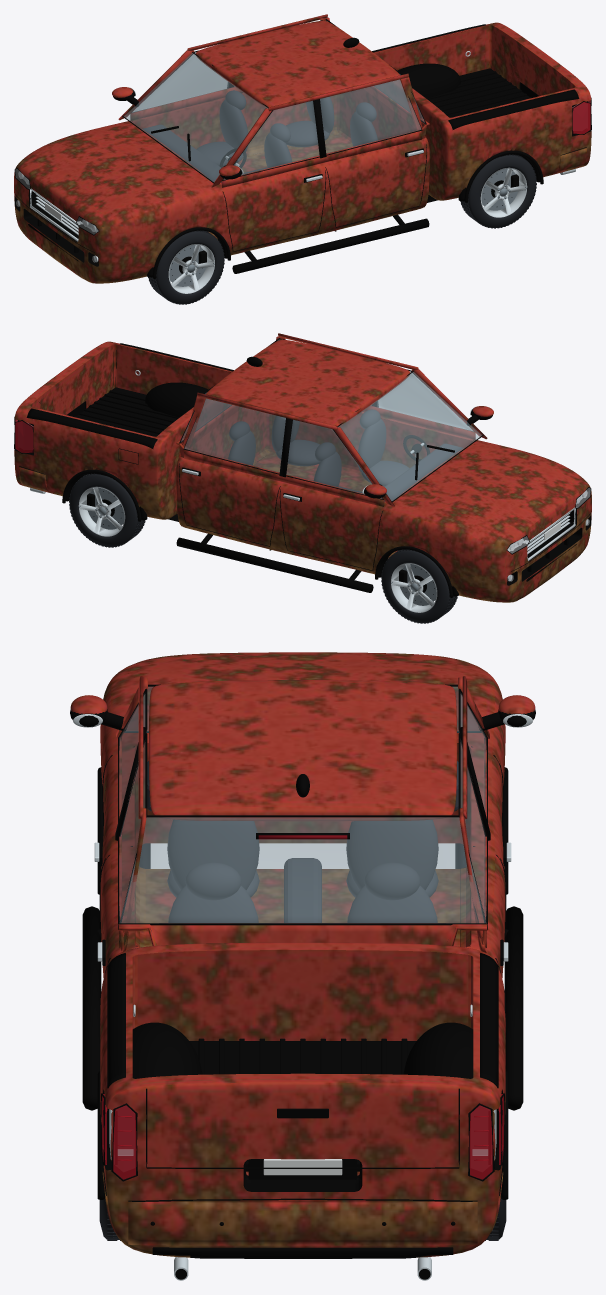
The model's file is rusty-red-pickup.glb.
3 renders of one model, top to bottom at view 1: azimuth 30°, elevation 25°; view 2: azimuth 150°, elevation 25°; view 3: azimuth 270°, elevation 25°, orthographic. The views are drawn at different scales.
Parts seen in each view (by area): view 1: pickup paint, pickup glass.001, pickup black.001, pickup interior, pickup rubber.001, pickup chrome, pickup steel.001, pickup redlens; view 2: pickup paint, pickup glass.001, pickup black.001, pickup interior, pickup rubber.001, pickup chrome, pickup steel.001, pickup redlens; view 3: pickup paint, pickup black.001, pickup glass.001, pickup interior, pickup redlens, pickup chrome, pickup rubber.001, pickup white.
Part boxes in pixels (box(x1,y1,x2,y2)): pickup paint: box(14, 14, 591, 283); pickup glass.001: box(124, 20, 425, 181); pickup black.001: box(14, 19, 591, 281); pickup interior: box(142, 90, 377, 246); pickup rubber.001: box(148, 154, 536, 304); pickup chrome: box(17, 51, 577, 293); pickup steel.001: box(169, 168, 526, 286); pickup redlens: box(572, 100, 590, 133); pickup paint: box(14, 333, 591, 602); pickup glass.001: box(180, 339, 481, 500); pickup black.001: box(14, 338, 591, 600); pickup interior: box(228, 409, 463, 565); pickup rubber.001: box(69, 473, 457, 623); pickup chrome: box(28, 370, 588, 612); pickup steel.001: box(79, 487, 436, 605); pickup redlens: box(15, 419, 33, 452); pickup paint: box(70, 652, 535, 1257); pickup black.001: box(70, 684, 535, 1279); pickup glass.001: box(119, 686, 486, 923); pickup interior: box(147, 761, 458, 922); pickup redlens: box(102, 835, 503, 1179); pickup chrome: box(73, 714, 532, 1280); pickup rubber.001: box(99, 843, 506, 1240); pickup white: box(263, 1159, 342, 1175).
Bounding box in the file's own units: 5.69 × 1.96 × 2.32.
10 materials, 10 textured.
